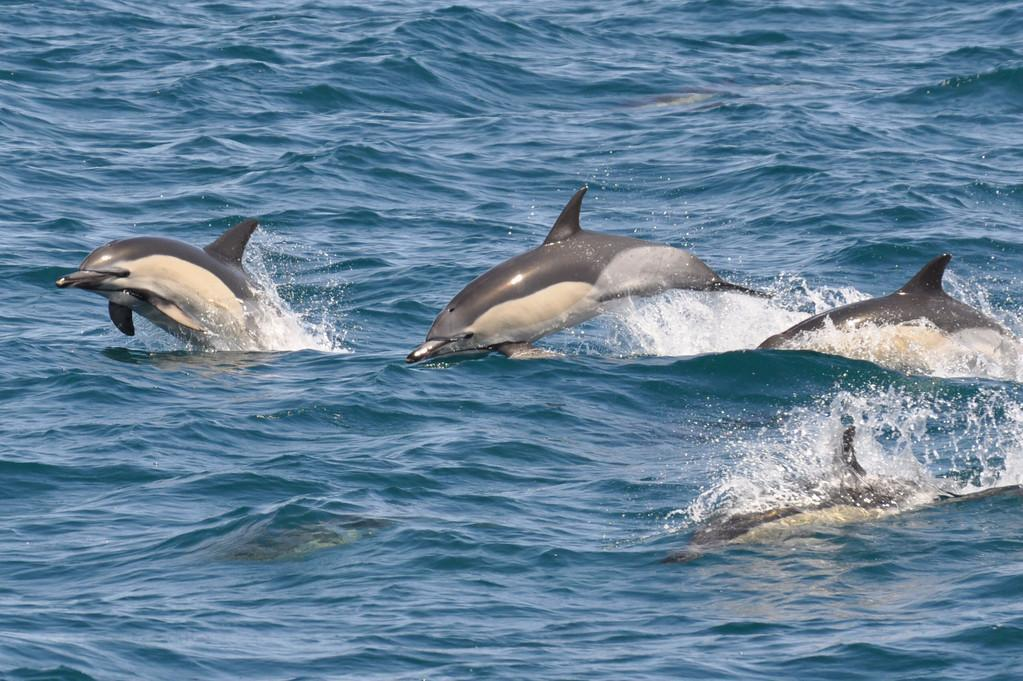fish: (393, 184, 770, 377), (53, 218, 303, 358), (761, 252, 1023, 364)
